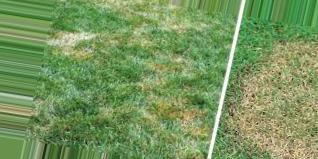patch: (252, 69, 318, 132), (268, 134, 308, 151), (282, 47, 318, 59)
